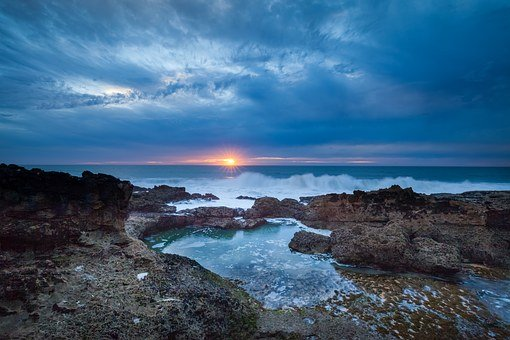sea: (7, 161, 507, 340)
sky: (1, 1, 504, 164)
